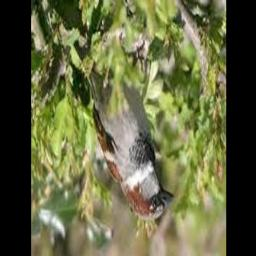Sparrow: (86, 68, 174, 221)
